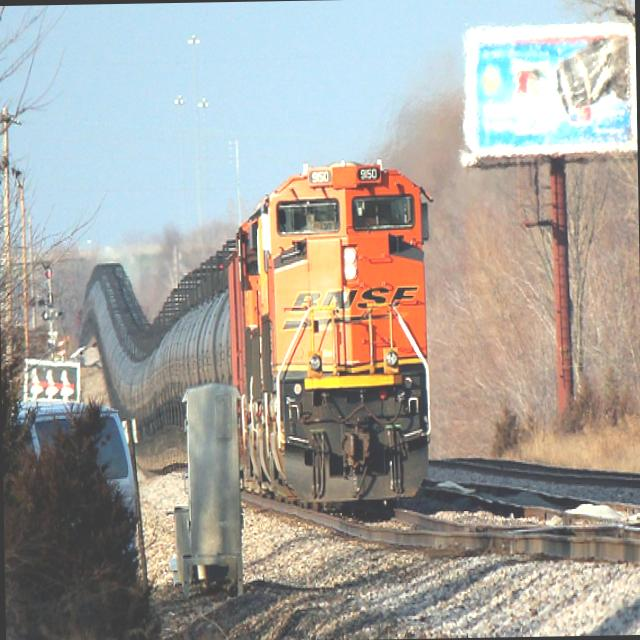Vehicle: (17, 397, 137, 521)
